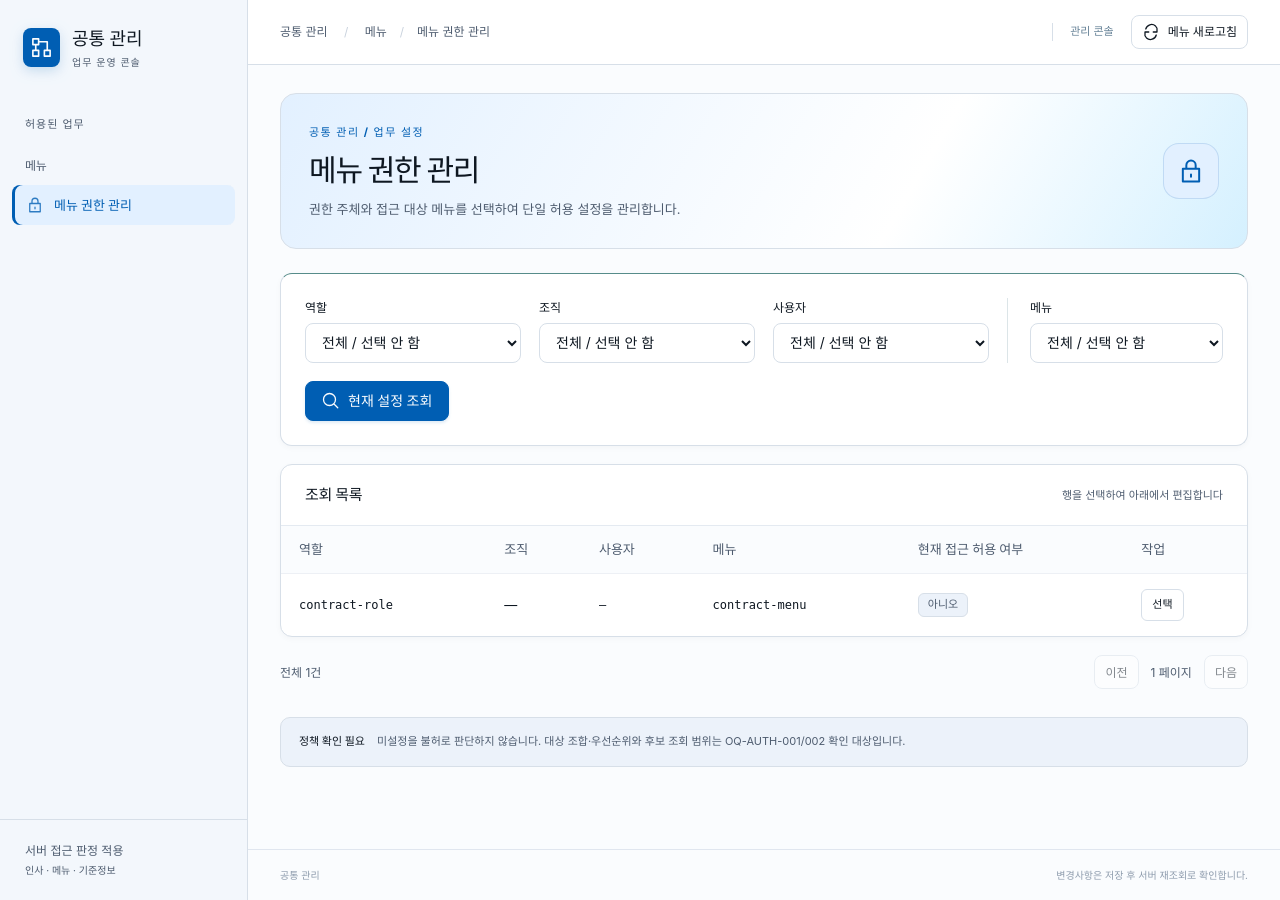
Scenario: 메뉴 권한의 기존 선택과 최초 저장 경계 › 기존 결과를 미설정으로 표시하지 않고 행 선택 후 saved ID로 저장한다
This screenshot has width=1280, height=900.
Expected: the button "허용 설정 저장" is not shown
Click the button "선택" at (1163, 605), box [1141,589,1184,621]
(page scrolled)
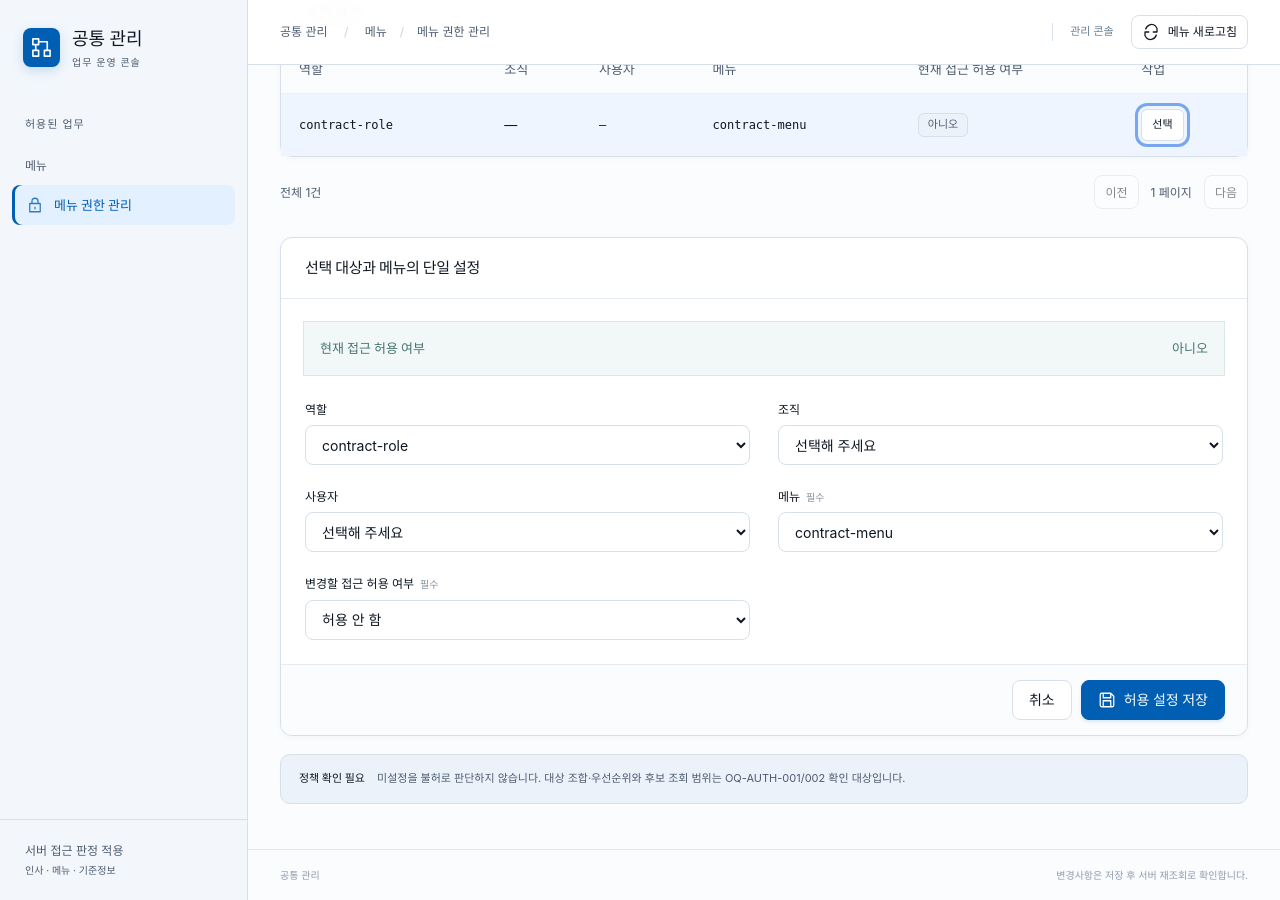
Expected: the button "허용 설정 저장" is enabled, [1081,680,1225,720]
Select "허용" in the dropdown labelled "변경할 접근 허용 여부" at (528, 620), box [305,600,750,640]
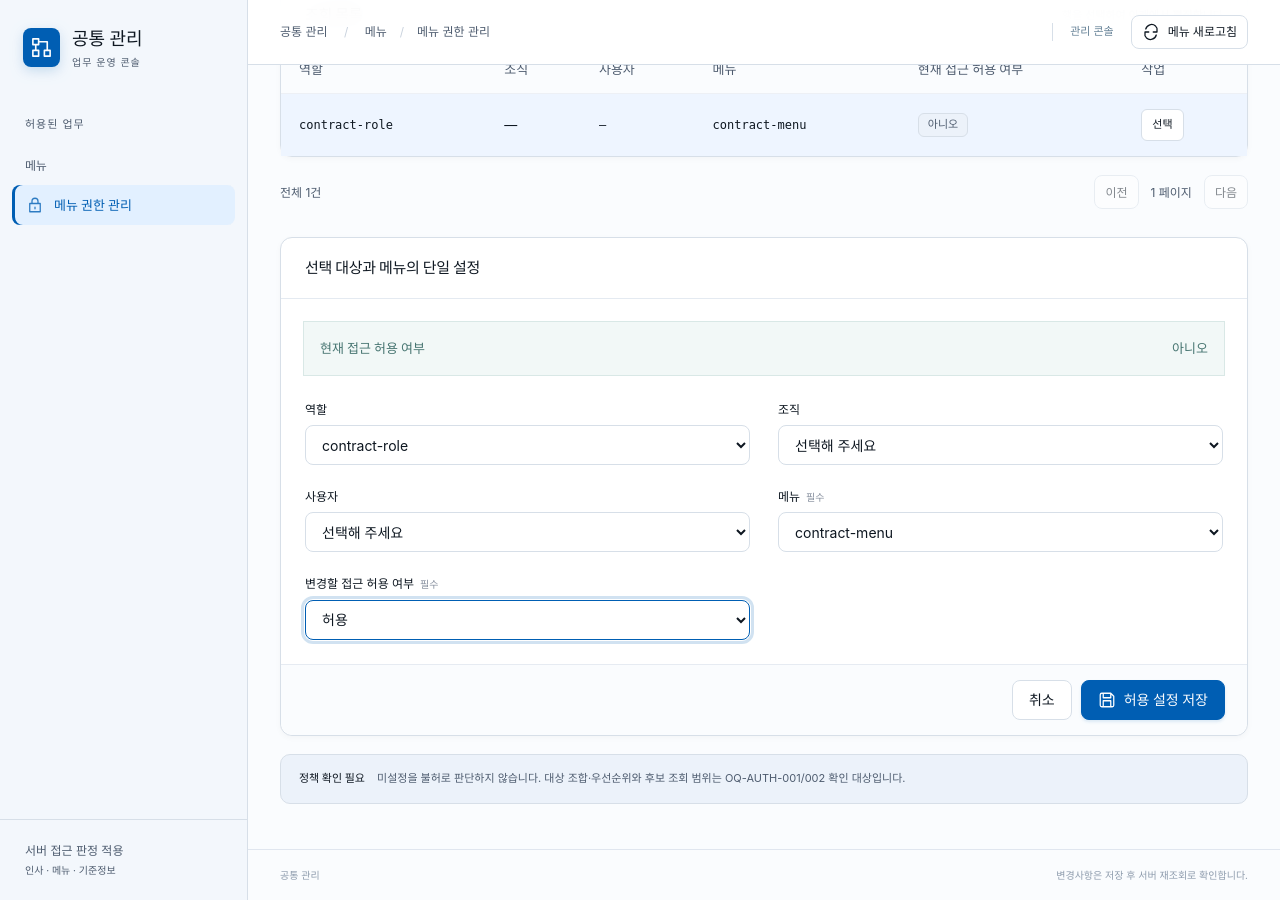
Click the button "허용 설정 저장" at (1153, 700), box [1081,680,1225,720]
(page scrolled)
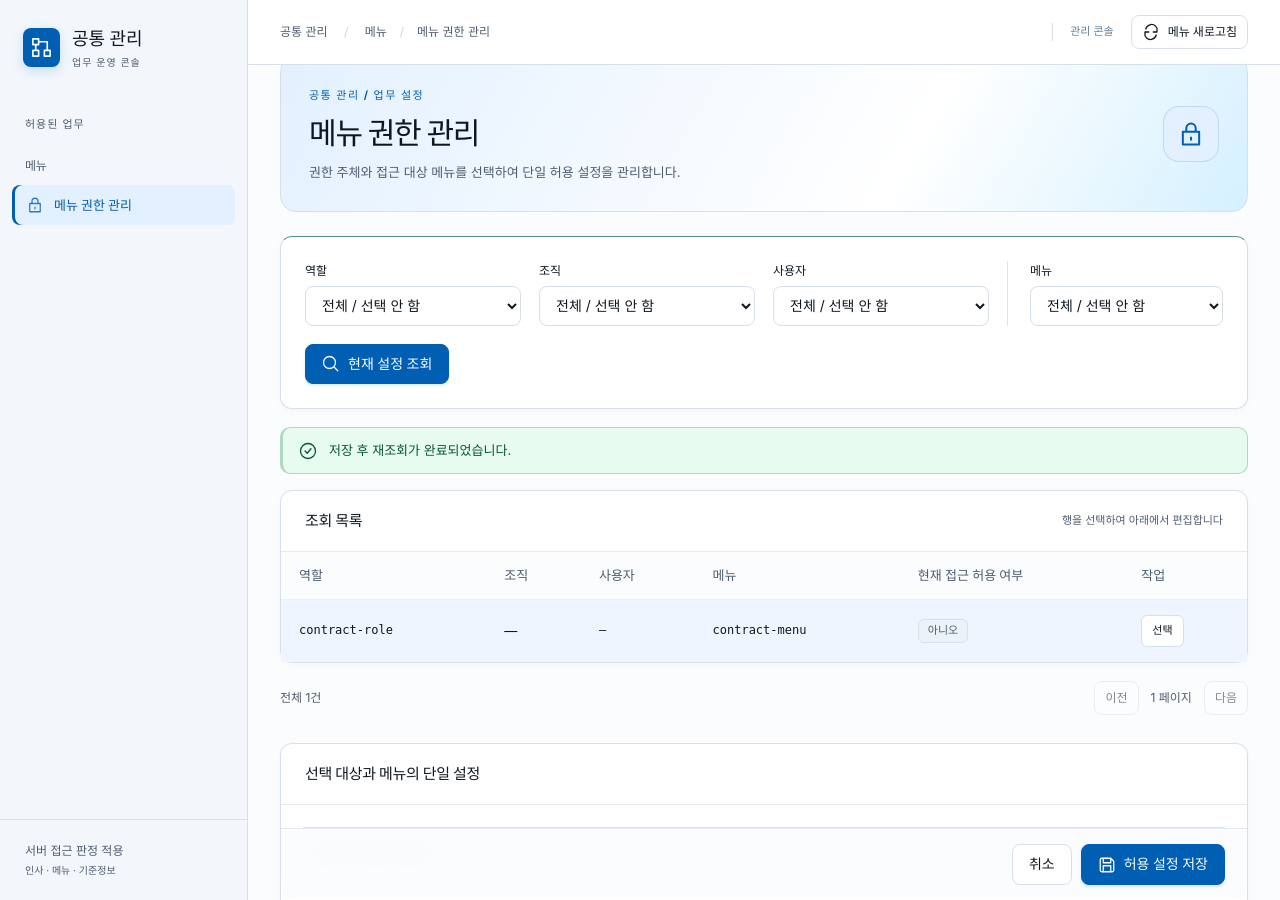
Expected: the text "저장 후 재조회가 완료되었습니다." is shown, [329,440,511,461]
